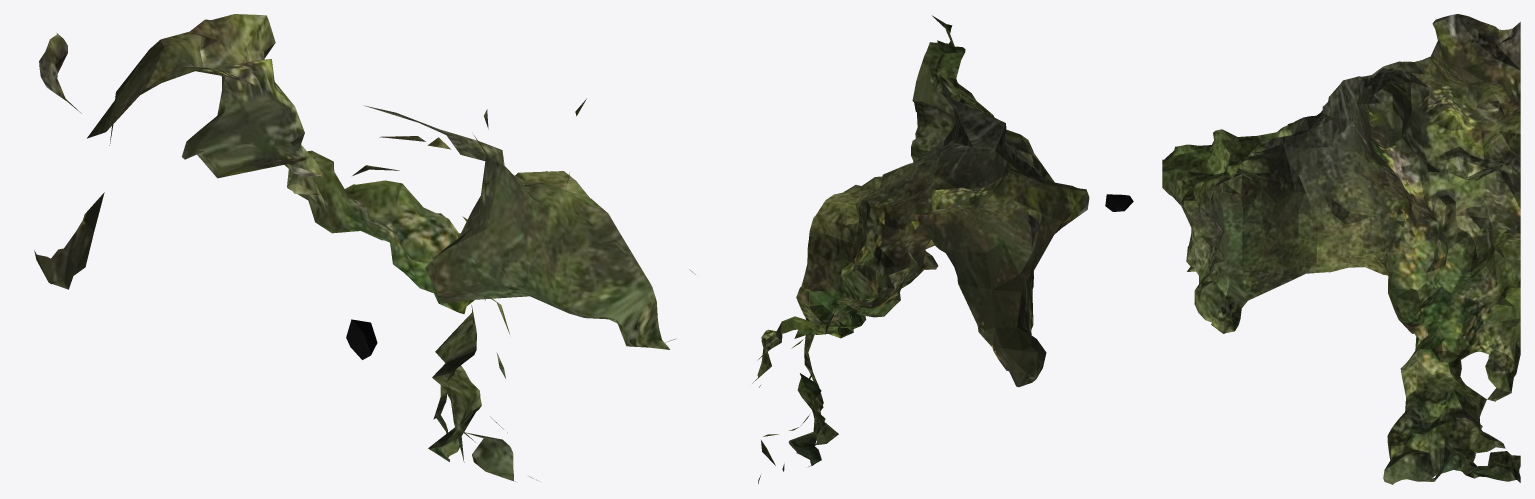
The picture shows the model from 3 angles, left to right: view 1: azimuth 30°, elevation 25°; view 2: azimuth 150°, elevation 25°; view 3: azimuth 270°, elevation 25°; orthographic projection. The views are drawn at different scales.
Size of the model in its own units: 5.71 by 5.9 by 5.9.
Materials: 3 (3 with a texture image).
